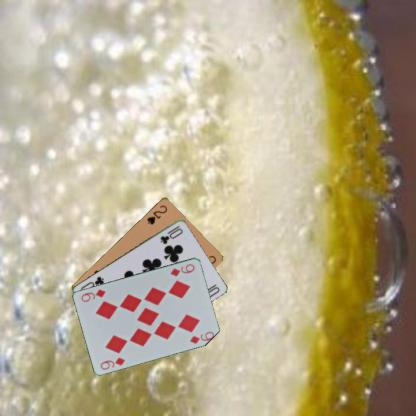10c: (158, 222, 184, 245)
2s: (145, 202, 168, 226)
9d: (98, 354, 126, 371), (167, 261, 196, 277)
